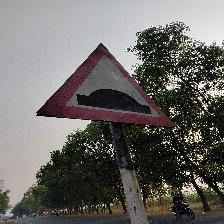Speed-breaker: (36, 43, 177, 133)
